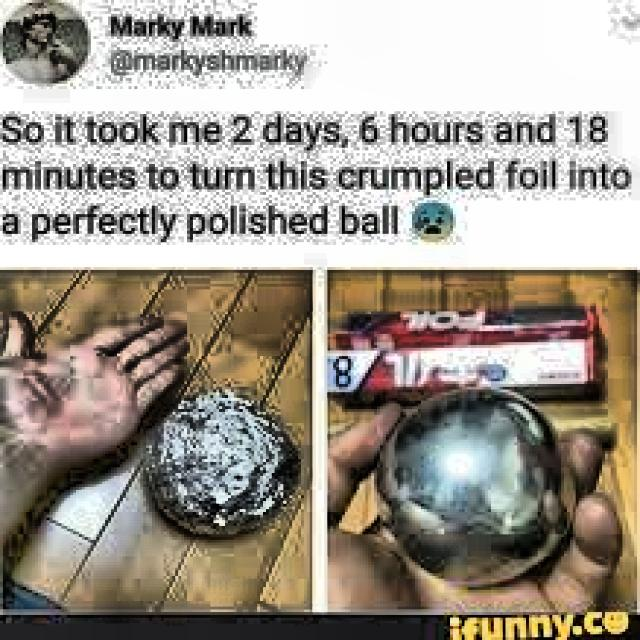Foil: (135, 357, 299, 545)
